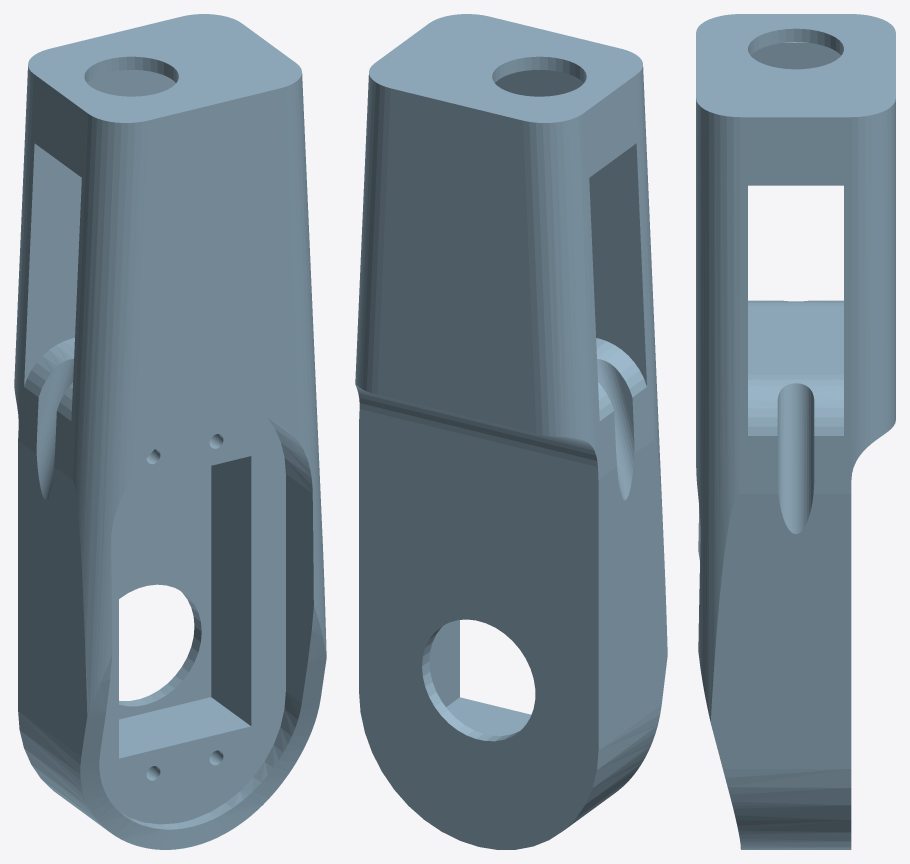
File: case-01_lib00006.glb
The picture shows the model from 3 angles, left to right: view 1: azimuth 30°, elevation 25°; view 2: azimuth 150°, elevation 25°; view 3: azimuth 270°, elevation 25°; orthographic projection.
Visible parts, largest first — view 1: lib00006; view 2: lib00006; view 3: lib00006.
Boxes of the visible parts, x1,y1,x2,y2 form: lib00006: (14,14,326,849); lib00006: (355,14,667,849); lib00006: (696,14,895,849).
Bounding box in the file's own units: 25.77 × 78 × 18.31.
